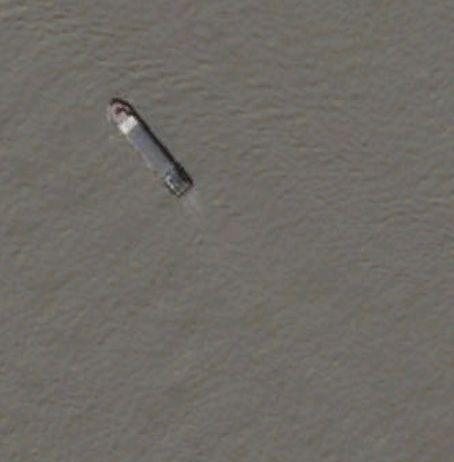boat: (105, 97, 193, 199)
